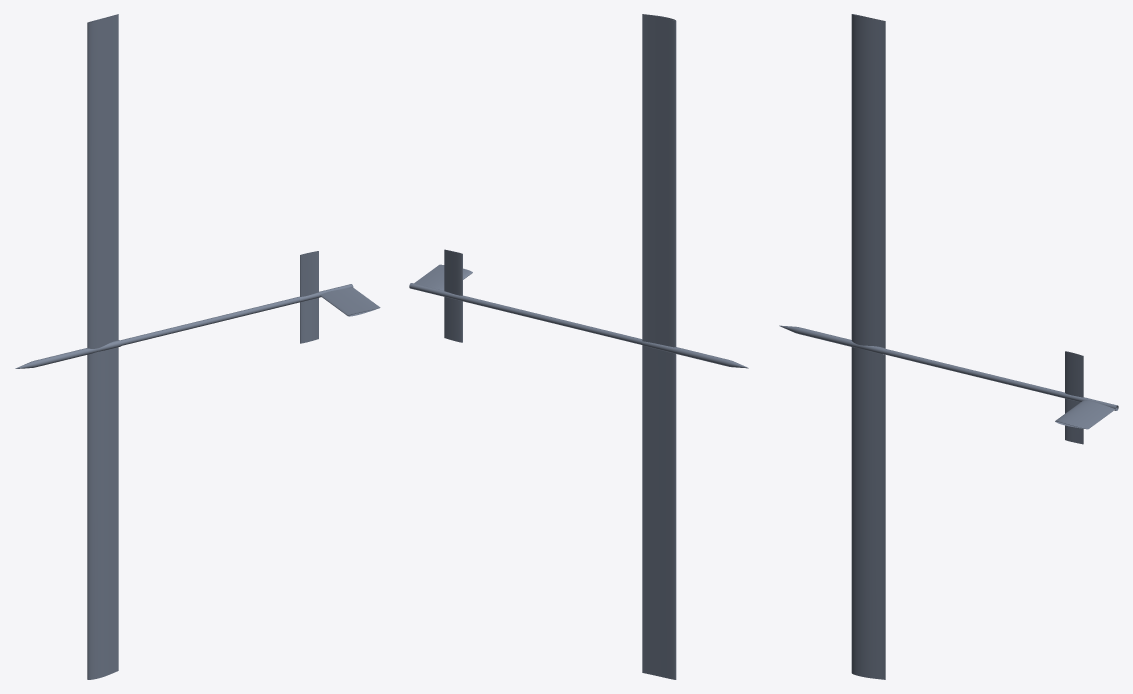
Rendered from solar-airplane.glb.
The picture shows the model from 3 angles, left to right: view 1: azimuth 30°, elevation 25°; view 2: azimuth 150°, elevation 25°; view 3: azimuth 330°, elevation 25°; orthographic projection.
Parts seen in each view (by area): view 1: rev7; view 2: rev7; view 3: rev7.
Boxes of the visible parts, x1,y1,x2,y2 form: rev7: (15, 14, 380, 679); rev7: (409, 14, 748, 679); rev7: (779, 14, 1118, 679).
Bounding box in the file's own units: 3.23 × 6 × 0.5044.
